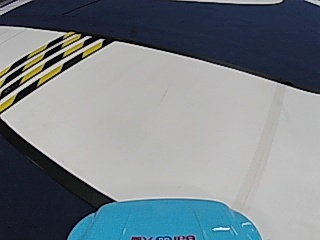bump: (2, 39, 82, 102)
